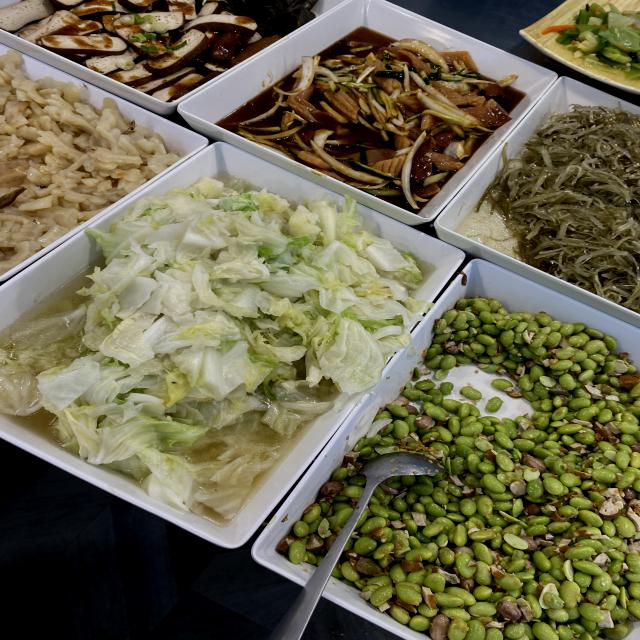cabbage: (97, 243, 348, 400)
